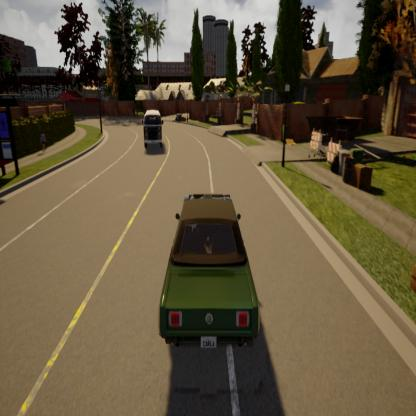Cars: (158, 196, 260, 353), (143, 108, 163, 153)
Pedestrian: (40, 127, 46, 155)
